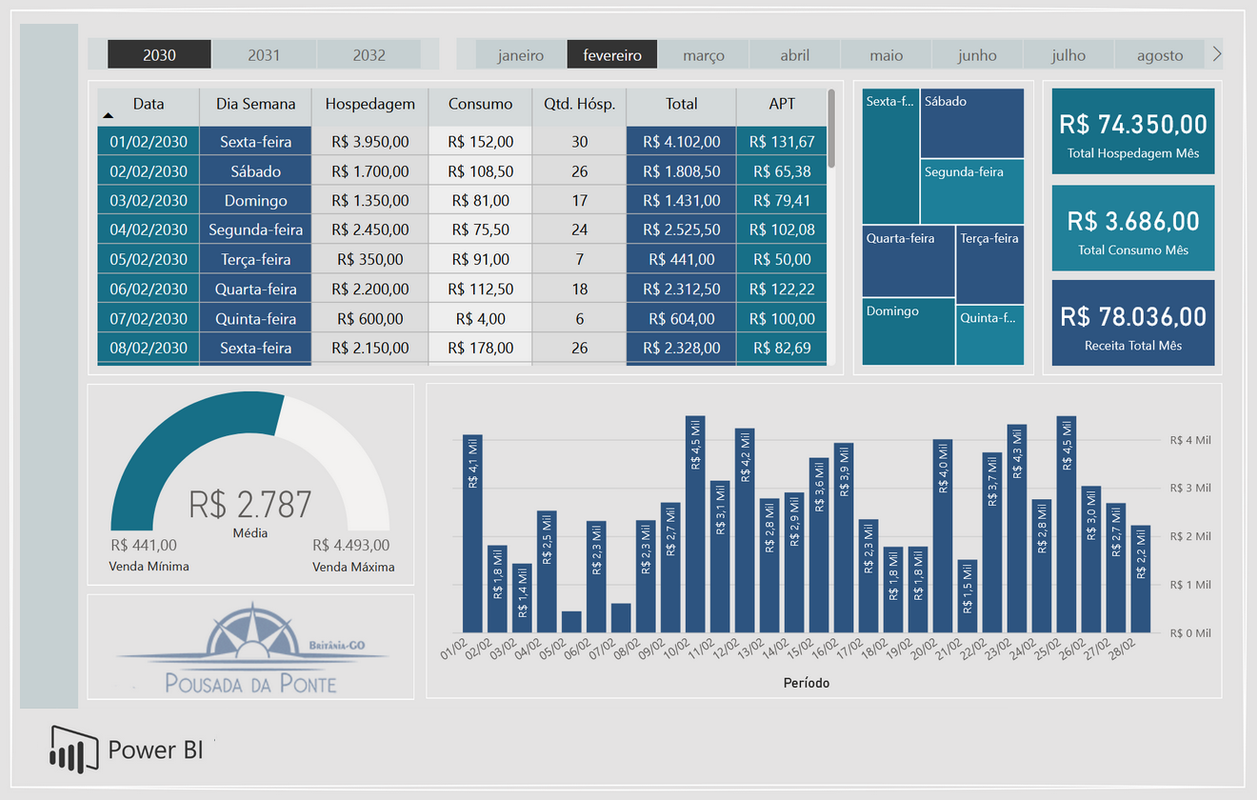

The dashboard page shown, as its layout file describes it:
{"tool":"powerbi","page":{"name":"📅 Faturamento Diário","canvas":[1280,720],"ordinal":0},"visuals":[{"type":"shape","box":[880.5,59.1,190.6,310.1],"z":0},{"type":"shape","box":[1079.6,59.1,189.4,310.1],"z":1000},{"type":"shape","box":[75.8,59.1,795,310.1],"z":2000},{"type":"shape","box":[431.7,377.6,837.3,331.8],"z":3000},{"type":"slicer","fields":{"Values":["dw_core dim_data.Data.Variation.Hierarquia de datas.Mês"]},"box":[463.1,14.5,805.9,33.8],"z":4000},{"type":"card","fields":{"Values":["Sum(dw_marts hospedagem_resumo.Total)"]},"box":[1089.5,269,171.3,90.5],"z":5000},{"type":"slicer","fields":{"Values":["dw_core dim_data.Data.Variation.Hierarquia de datas.Ano"]},"box":[75.8,14.5,369.2,33.8],"z":6000},{"type":"tableEx","fields":{"Values":["dw_marts hospedagem_resumo.data","dw_marts hospedagem_resumo.dia_semana","Sum(dw_marts hospedagem_resumo.hospedagem)","Sum(dw_marts hospedagem_resumo.consumo)","Sum(dw_marts hospedagem_resumo.quantidade_hospedes)","Sum(dw_marts hospedagem_resumo.total)","Sum(dw_marts hospedagem_resumo.apt)"]},"box":[85.5,67.6,776.9,292],"z":7000},{"type":"shape","box":[0,0,62.7,720.2],"z":8000},{"type":"card","fields":{"Values":["Sum(dw_marts hospedagem_resumo.Consumo)"]},"box":[1089.5,168.9,171.3,90.5],"z":9000},{"type":"card","fields":{"Values":["Sum(dw_marts hospedagem_resumo.Hospedagem)"]},"box":[1089.5,67.6,171.3,90.5],"z":10000},{"type":"columnChart","fields":{"Y":["Sum(dw_marts hospedagem_resumo.Total)"],"Category":["dw_marts hospedagem_resumo.Data"]},"box":[439,374,824,331.8],"z":11000},{"type":"treemap","fields":{"Group":["dw_marts hospedagem_resumo.Dia Semana"],"Values":["Sum(dw_marts hospedagem_resumo.Total)"]},"box":[890.2,67.6,171.3,292],"z":12000},{"type":"shape","box":[75.7,377.8,344.4,212],"z":13000},{"type":"gauge","fields":{"Y":["Avg(dw_marts hospedagem_resumo.Total)"],"MinValue":["Min(dw_marts hospedagem_resumo.Total)1"],"MaxValue":["Max(dw_marts hospedagem_resumo.Total)2"]},"box":[78.2,381.2,338,188.2],"z":14000},{"type":"textbox","box":[83.1,555,101.3,31.4],"z":15000},{"type":"textbox","box":[301.4,556.2,101.3,31.4],"z":16000},{"type":"textbox","box":[195.9,520.8,101.7,30.8],"z":17000},{"type":"shape","box":[75.7,598.9,344.4,111.1],"z":18000,"group":"g1"},{"type":"image","box":[98.8,593.6,300.4,120.6],"z":19000,"group":"g1"},{"type":"group","id":"g1","title":"Grupo 1","box":[75.7,593.6,344.4,120.6],"z":19001}]}

Visuals, with their boxes on the page's 1280x720 design canvas (x1, y1, x2, y2). These are canvas units, not pixel positions in the 1257x800 screenshot, which may show the page scaled, cropped or inside an application window:
shape: [x1=880, y1=59, x2=1071, y2=369]
shape: [x1=1080, y1=59, x2=1269, y2=369]
shape: [x1=76, y1=59, x2=871, y2=369]
shape: [x1=432, y1=378, x2=1269, y2=709]
slicer - dw_core dim_data.Data.Variation.Hierarquia de datas.Mês: [x1=463, y1=14, x2=1269, y2=48]
card - Sum(dw_marts hospedagem_resumo.Total): [x1=1090, y1=269, x2=1261, y2=360]
slicer - dw_core dim_data.Data.Variation.Hierarquia de datas.Ano: [x1=76, y1=14, x2=445, y2=48]
tableEx - dw_marts hospedagem_resumo.data x dw_marts hospedagem_resumo.dia_semana: [x1=86, y1=68, x2=862, y2=360]
shape: [x1=0, y1=0, x2=63, y2=720]
card - Sum(dw_marts hospedagem_resumo.Consumo): [x1=1090, y1=169, x2=1261, y2=259]
card - Sum(dw_marts hospedagem_resumo.Hospedagem): [x1=1090, y1=68, x2=1261, y2=158]
columnChart - Sum(dw_marts hospedagem_resumo.Total) x dw_marts hospedagem_resumo.Data: [x1=439, y1=374, x2=1263, y2=706]
treemap - dw_marts hospedagem_resumo.Dia Semana x Sum(dw_marts hospedagem_resumo.Total): [x1=890, y1=68, x2=1062, y2=360]
shape: [x1=76, y1=378, x2=420, y2=590]
gauge - Avg(dw_marts hospedagem_resumo.Total) x Min(dw_marts hospedagem_resumo.Total)1: [x1=78, y1=381, x2=416, y2=569]
textbox: [x1=83, y1=555, x2=184, y2=586]
textbox: [x1=301, y1=556, x2=403, y2=588]
textbox: [x1=196, y1=521, x2=298, y2=552]
shape: [x1=76, y1=599, x2=420, y2=710]
image: [x1=99, y1=594, x2=399, y2=714]
"Grupo 1" group: [x1=76, y1=594, x2=420, y2=714]
